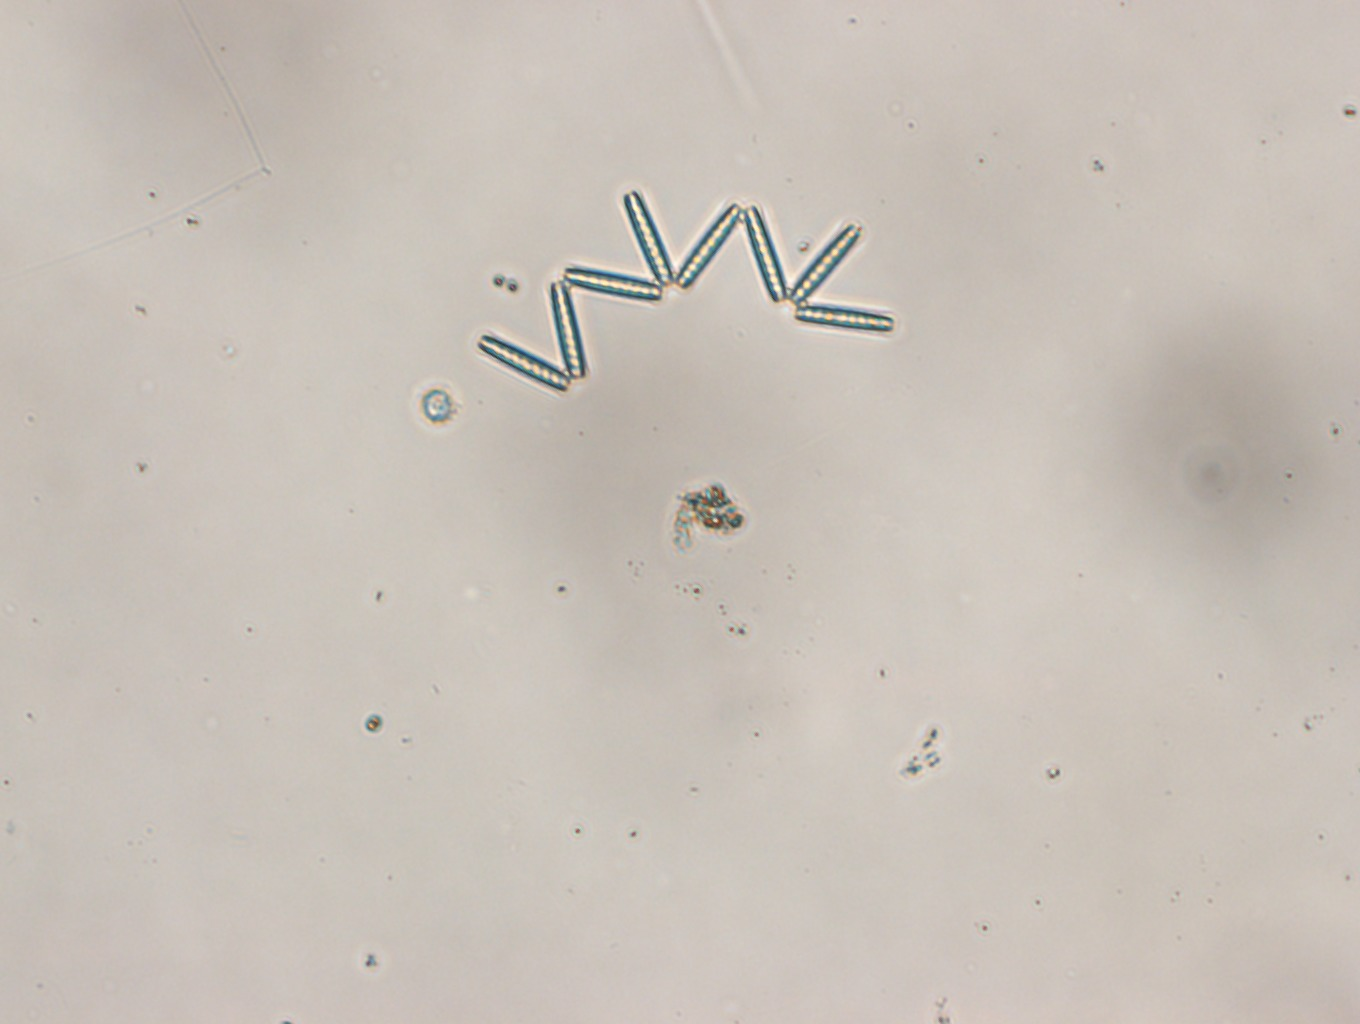thalassionema nitzschioides: (477, 188, 896, 395)
